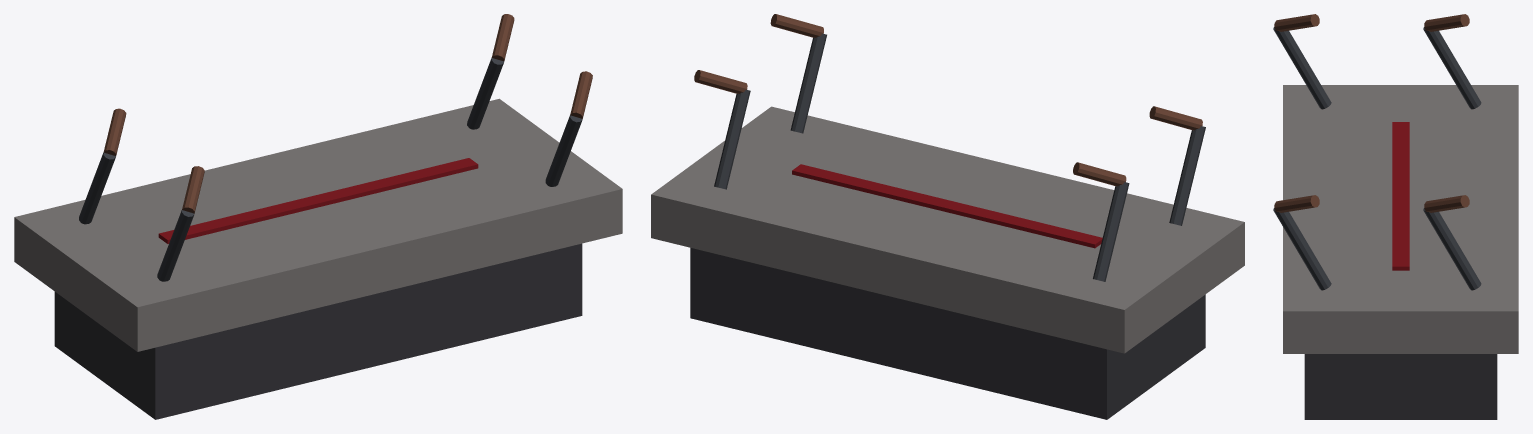
Rendered from Sacrifice_Slab.obj.
The picture shows the model from 3 angles, left to right: view 1: azimuth 30°, elevation 25°; view 2: azimuth 150°, elevation 25°; view 3: azimuth 270°, elevation 25°; orthographic projection. The views are drawn at different scales.
Parts seen in each view (by area): view 1: Slab, Pedestal, Drain, ChainA_-1.0_0.35, ChainA_1.0_0.35, ChainA_1.0_-0.35, ChainA_-1.0_-0.35, ChainB_1.0_-0.35, ChainB_-1.0_-0.35, ChainB_-1.0_0.35, ChainB_1.0_0.35; view 2: Slab, Pedestal, Drain, ChainA_1.0_-0.35, ChainA_1.0_0.35, ChainA_-1.0_-0.35, ChainA_-1.0_0.35, ChainB_1.0_-0.35, ChainB_-1.0_-0.35, ChainB_-1.0_0.35, ChainB_1.0_0.35; view 3: Slab, Pedestal, Drain, ChainA_-1.0_-0.35, ChainA_-1.0_0.35, ChainA_1.0_-0.35, ChainA_1.0_0.35, ChainB_-1.0_-0.35, ChainB_1.0_-0.35, ChainB_-1.0_0.35, ChainB_1.0_0.35.
Part boxes in pixels (left/top/right/bottom): Slab: left=14, top=98, right=622, bottom=351; Pedestal: left=54, top=243, right=582, bottom=419; Drain: left=158, top=158, right=478, bottom=243; ChainA_-1.0_0.35: left=157, top=210, right=194, bottom=281; ChainA_1.0_0.35: left=545, top=115, right=582, bottom=186; ChainA_1.0_-0.35: left=467, top=58, right=503, bottom=129; ChainA_-1.0_-0.35: left=79, top=152, right=115, bottom=224; ChainB_1.0_-0.35: left=491, top=14, right=514, bottom=61; ChainB_-1.0_-0.35: left=103, top=108, right=126, bottom=155; ChainB_-1.0_0.35: left=182, top=166, right=204, bottom=213; ChainB_1.0_0.35: left=570, top=71, right=592, bottom=118; Slab: left=651, top=106, right=1244, bottom=353; Pedestal: left=690, top=248, right=1205, bottom=419; Drain: left=792, top=164, right=1102, bottom=248; ChainA_1.0_-0.35: left=714, top=89, right=750, bottom=189; ChainA_1.0_0.35: left=790, top=33, right=826, bottom=133; ChainA_-1.0_-0.35: left=1093, top=182, right=1129, bottom=281; ChainA_-1.0_0.35: left=1169, top=126, right=1205, bottom=225; ChainB_1.0_-0.35: left=694, top=70, right=747, bottom=93; ChainB_-1.0_-0.35: left=1073, top=162, right=1126, bottom=186; ChainB_-1.0_0.35: left=1149, top=106, right=1202, bottom=130; ChainB_1.0_0.35: left=770, top=14, right=823, bottom=37; Slab: left=1283, top=85, right=1518, bottom=353; Pedestal: left=1304, top=354, right=1497, bottom=419; Drain: left=1392, top=122, right=1409, bottom=270; ChainA_-1.0_-0.35: left=1423, top=27, right=1481, bottom=109; ChainA_-1.0_0.35: left=1273, top=27, right=1331, bottom=109; ChainA_1.0_-0.35: left=1423, top=208, right=1481, bottom=290; ChainA_1.0_0.35: left=1273, top=208, right=1331, bottom=290; ChainB_-1.0_-0.35: left=1424, top=14, right=1469, bottom=31; ChainB_1.0_-0.35: left=1424, top=195, right=1469, bottom=212; ChainB_-1.0_0.35: left=1274, top=14, right=1319, bottom=31; ChainB_1.0_0.35: left=1274, top=195, right=1319, bottom=212.
Size of the model in its own units: 2.5 by 1.18 by 1.15.
